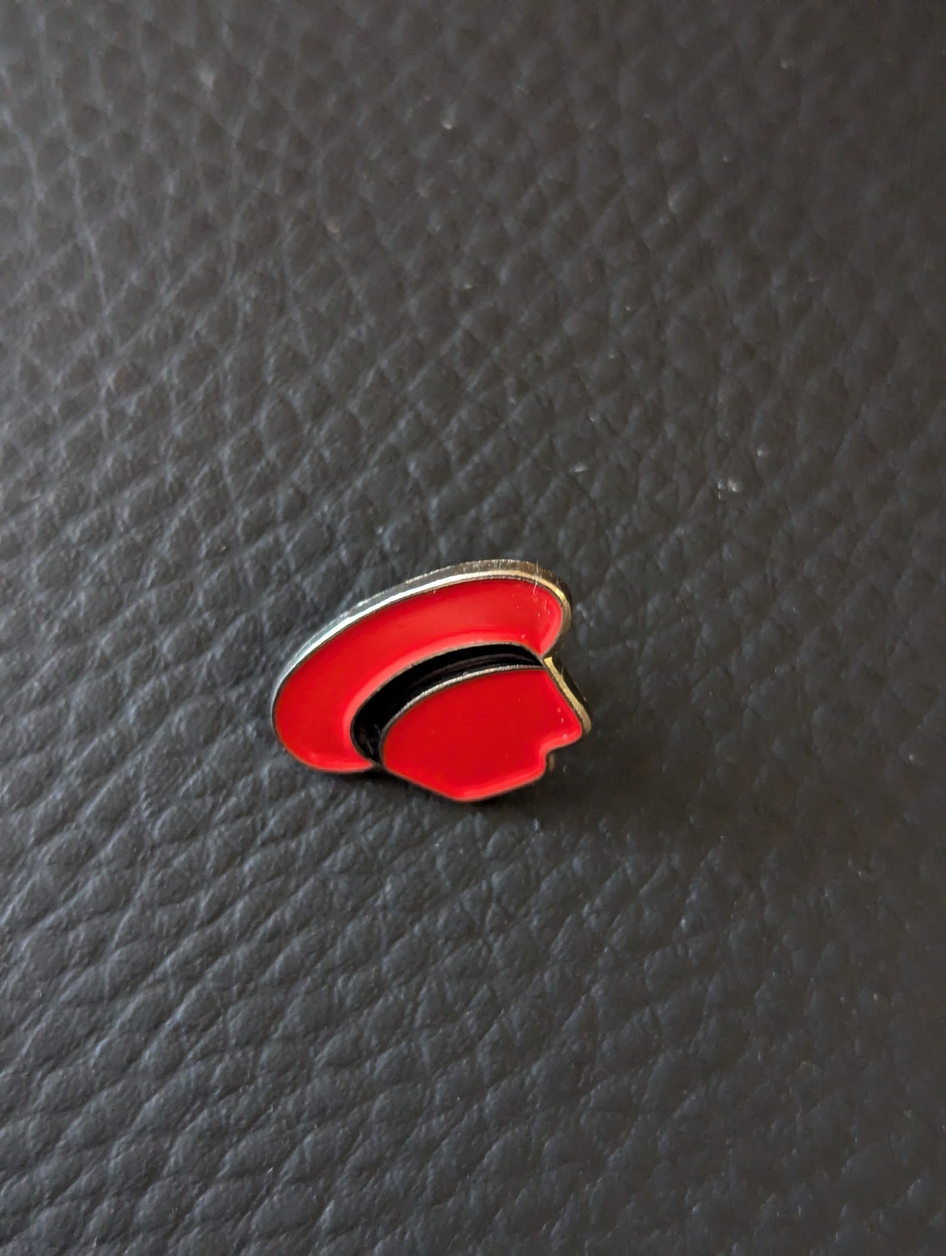Red-Hat: (190, 481, 702, 929)
